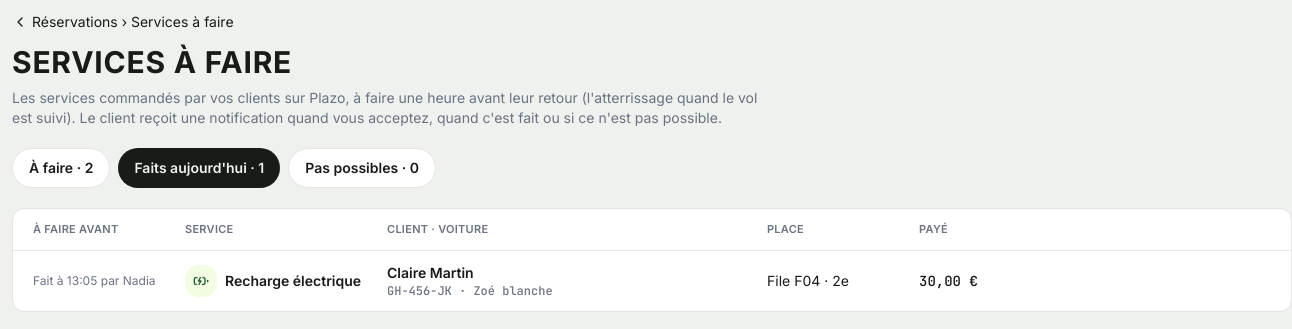
Test: ExtrasTodoPage › les services faits aujourd'hui, et un onglet vide
This screenshot has width=1292, height=329.
Expected: the text "Fait à 13:05 par Nadia" is shown, [33, 272, 173, 288]
Click the tab with test id "extras-tab-refused" at {"x": 362, "y": 168}, box [288, 148, 436, 188]
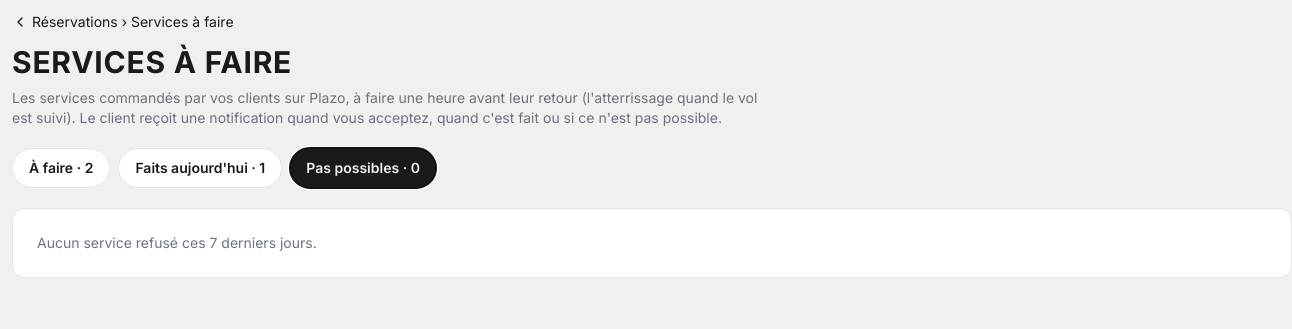
Now the text with test id "extras-empty" shows "Aucun service refusé", box [37, 234, 317, 251]
